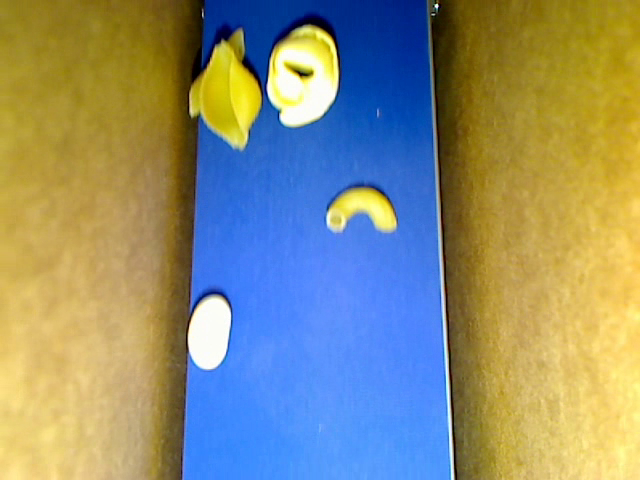elbow: (327, 187, 397, 234)
penne: (187, 30, 243, 119)
shell: (200, 40, 262, 150)
tortellini: (266, 24, 338, 128)
